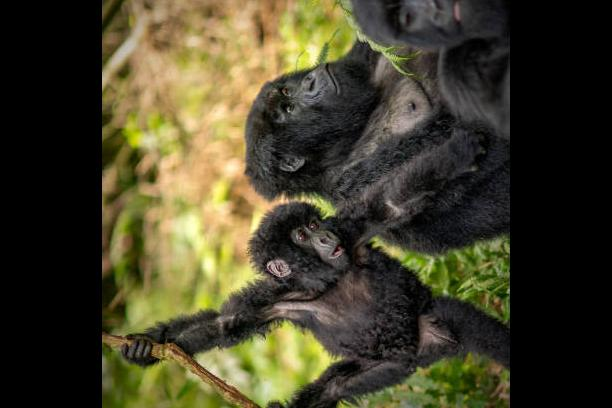goriile_montagne: (121, 208, 475, 408), (238, 0, 502, 236), (344, 0, 510, 112)
